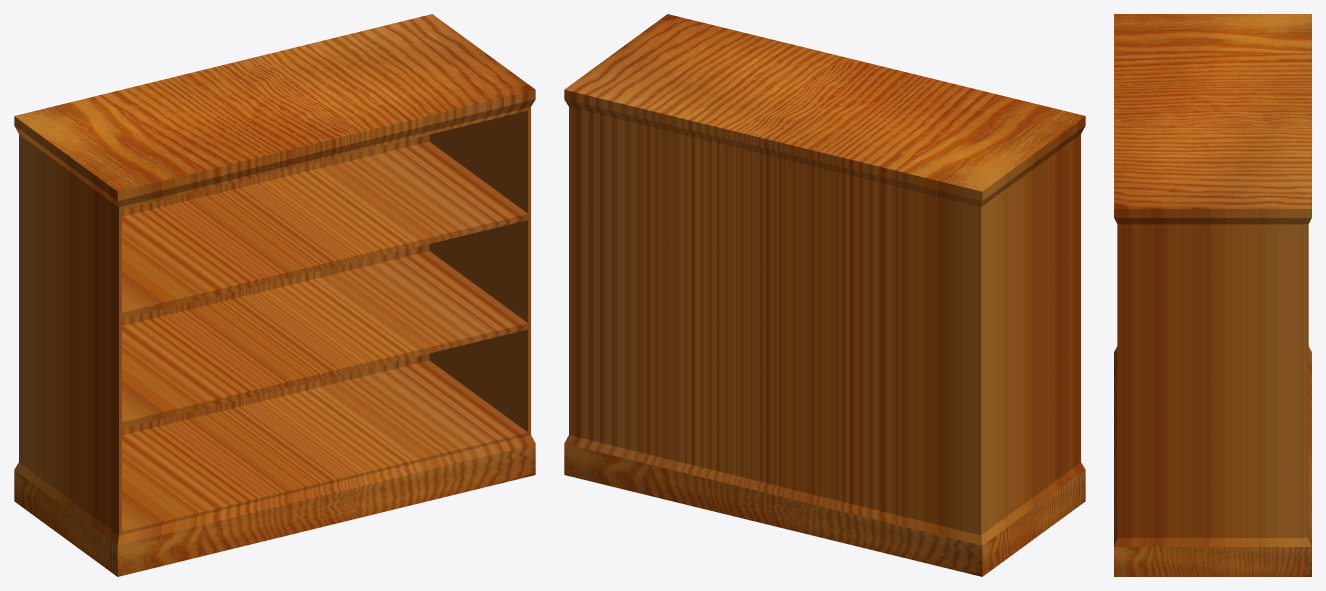
The model's file is bookshelf_3t.fbx.
The picture shows the model from 3 angles, left to right: view 1: azimuth 30°, elevation 25°; view 2: azimuth 150°, elevation 25°; view 3: azimuth 270°, elevation 25°; orthographic projection. The views are drawn at different scales.
Parts seen in each view (by area): view 1: bookshelf_3t; view 2: bookshelf_3t; view 3: bookshelf_3t.
Boxes of the visible parts, left/top/right/bottom form: bookshelf_3t: left=14, top=14, right=535, bottom=576; bookshelf_3t: left=564, top=14, right=1085, bottom=576; bookshelf_3t: left=1114, top=14, right=1311, bottom=576.
Bounding box in the file's own units: 140 × 123 × 60.
